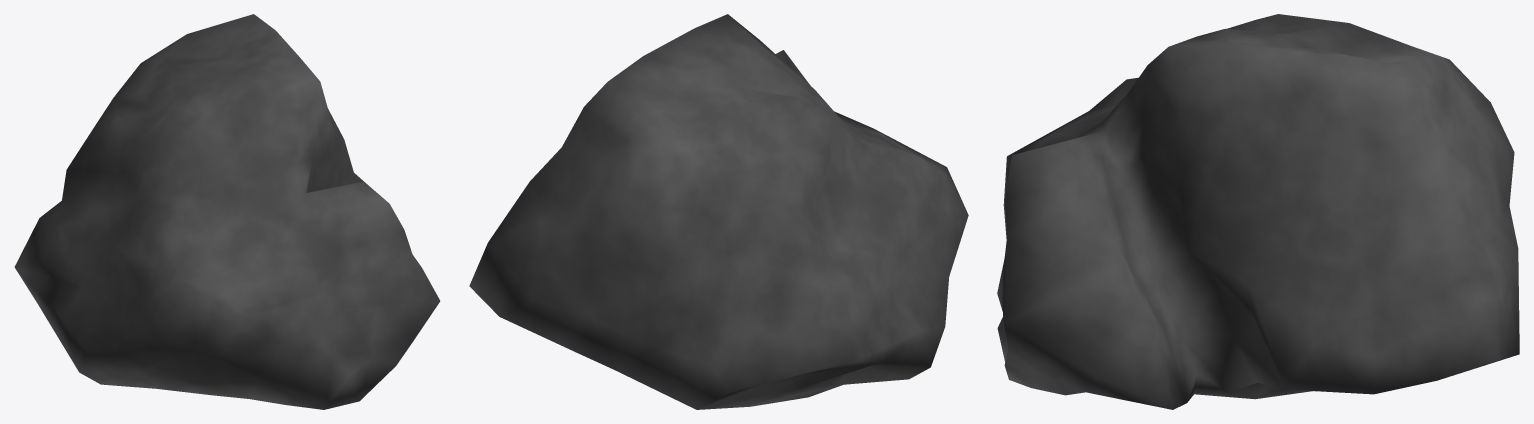
Rendered from low-poly-grey-boulder.glb.
3 renders of one model, left to right at view 1: azimuth 30°, elevation 25°; view 2: azimuth 150°, elevation 25°; view 3: azimuth 270°, elevation 25°, orthographic. The views are drawn at different scales.
Parts seen in each view (by area): view 1: Rock lp.001; view 2: Rock lp.001; view 3: Rock lp.001.
Part boxes in pixels (x1,y1,x2,y2): Rock lp.001: (14, 14, 440, 409); Rock lp.001: (469, 14, 968, 409); Rock lp.001: (997, 14, 1519, 409).
Bounding box in the file's own units: 2 × 1.63 × 2.1.
1 material, 1 textured.
